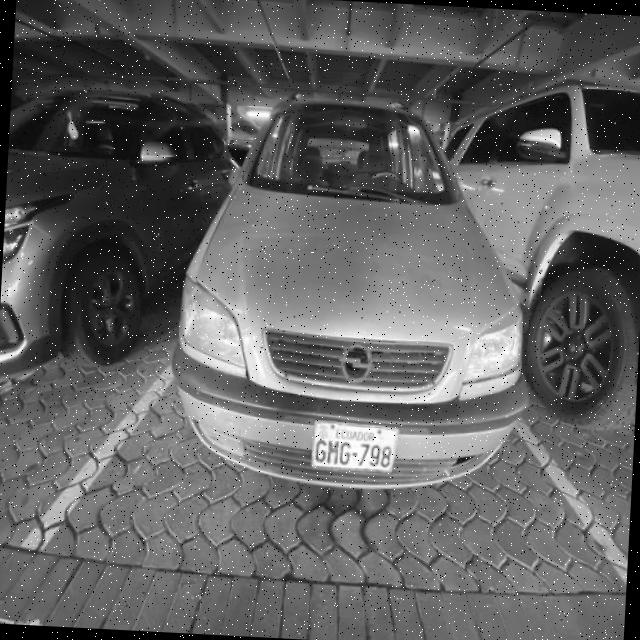Placa: (312, 421, 396, 470)
